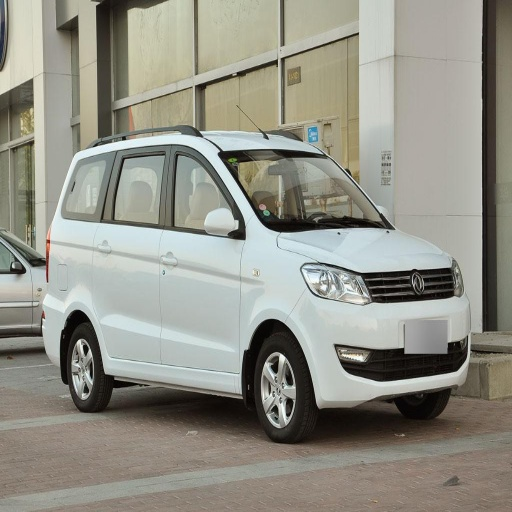front_bumper: (297, 263, 472, 407)
front_right_door: (159, 144, 244, 374)
front_right_light: (301, 262, 373, 304)
